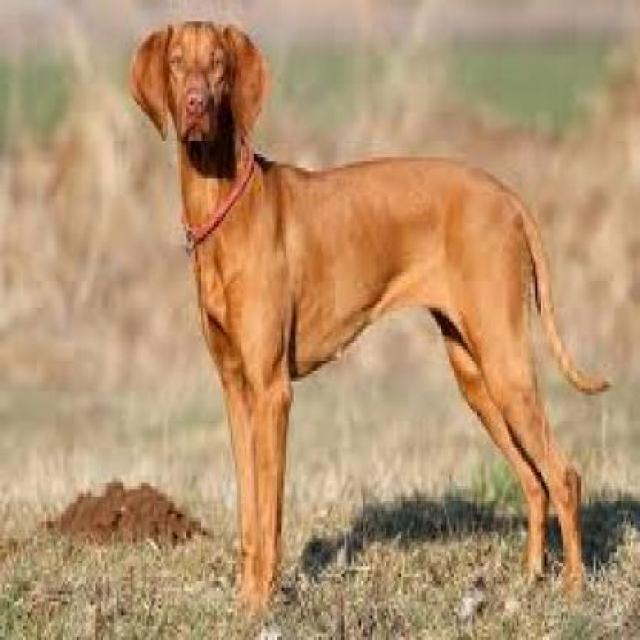animals: (124, 12, 613, 596)
